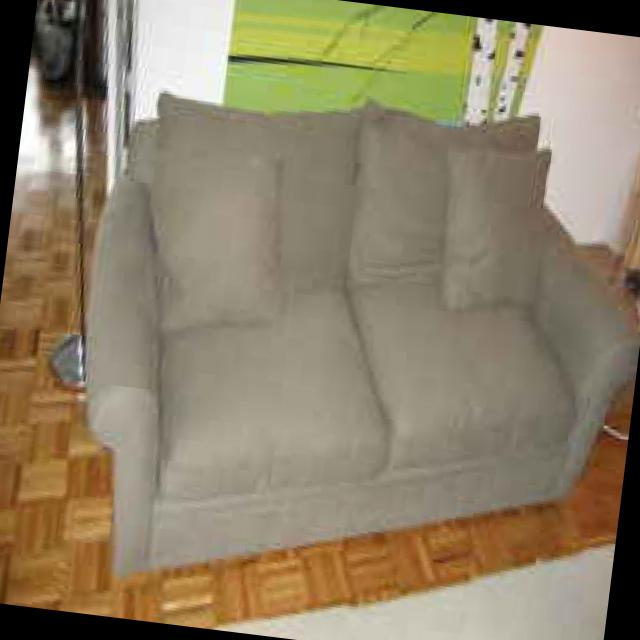carpet floor: (229, 540, 609, 640)
cushion occluded: (152, 159, 280, 330), (445, 143, 550, 303)
floor -X: (0, 165, 638, 640)
poster crop: (217, 0, 541, 109)
sofa bed: (80, 107, 634, 571)
wall clock: (18, 0, 640, 247), (623, 85, 640, 298)
